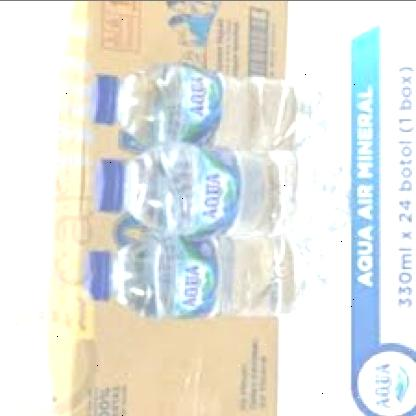Plastic Bottle: (92, 143, 348, 239), (89, 61, 329, 150), (84, 234, 328, 320)
